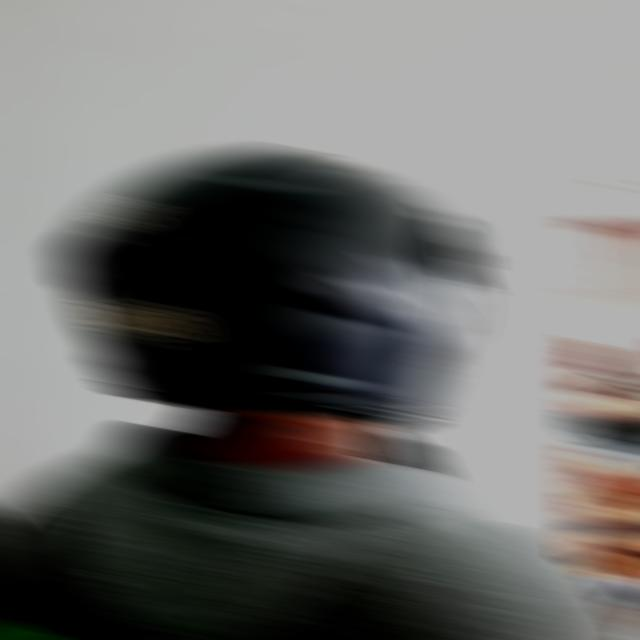With Helmet: (52, 142, 494, 427)
